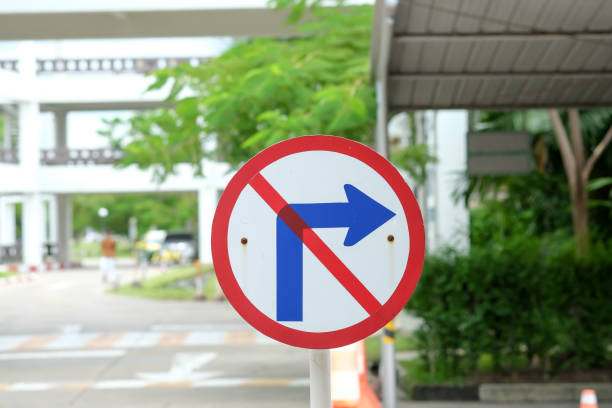saga_donulmez: (205, 135, 429, 349)
